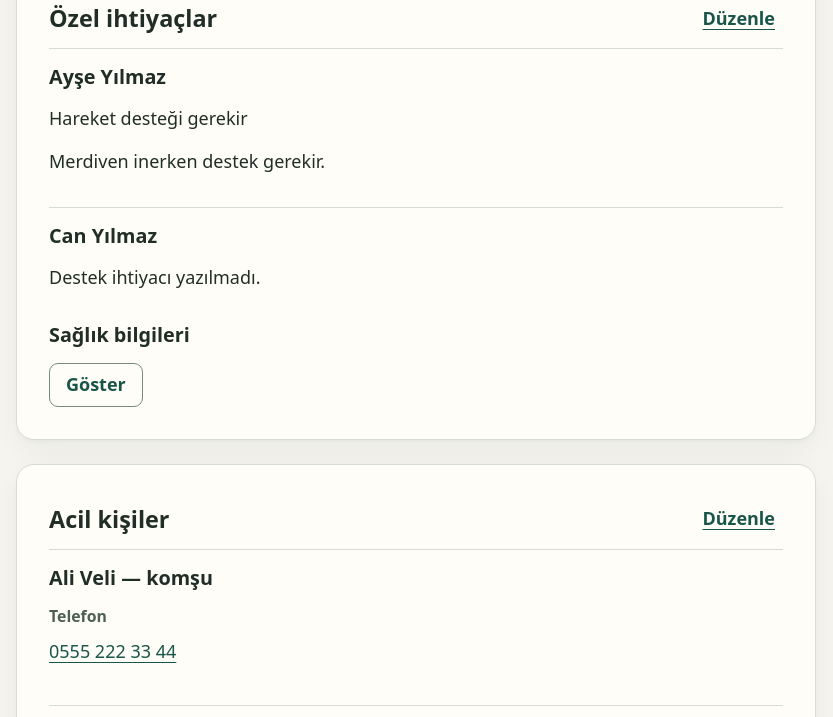
Test: Summary — sağlık bilgileri (İ8) › sağlık bilgilerini varsayılan olarak gizler ve "Göster" ile açar
(page scrolled)
Expected: the text "Astım" is not shown
Expected: the text "Ventolin" is not shown
Step 1. Click the button "Göster" → click(96, 385), box [49, 363, 143, 407]
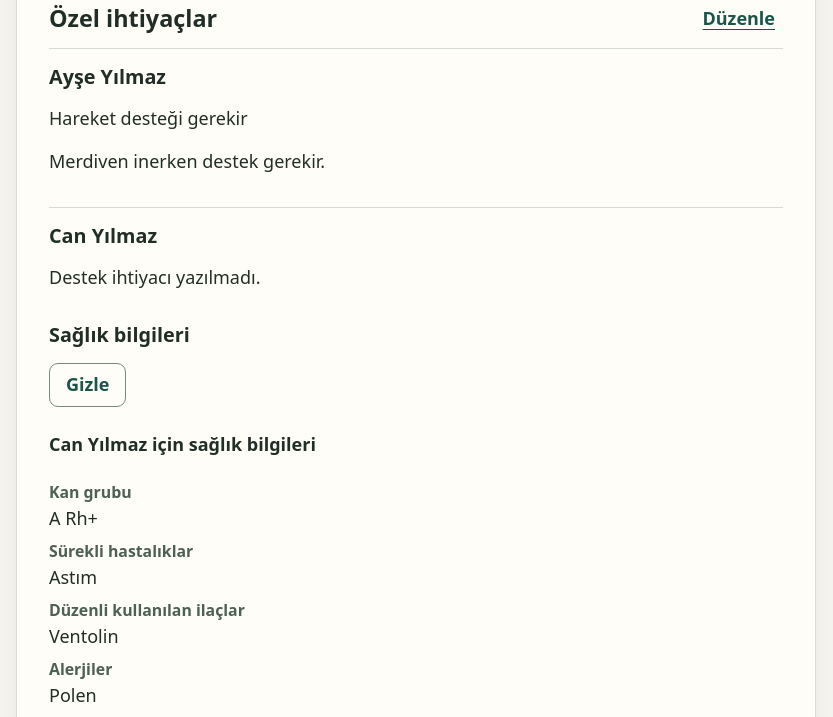
Result: the text "Astım" is shown at [49, 565, 97, 589]
Result: the text "Ventolin" is shown at [49, 624, 118, 648]
Result: the text "A Rh+" is shown at [49, 506, 98, 530]
